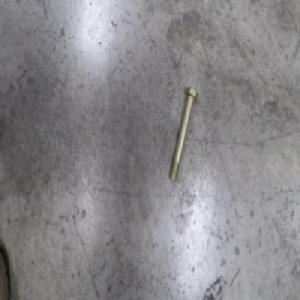Bolt: (168, 86, 198, 184)
